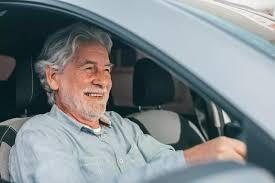Awake: (26, 18, 126, 133)
